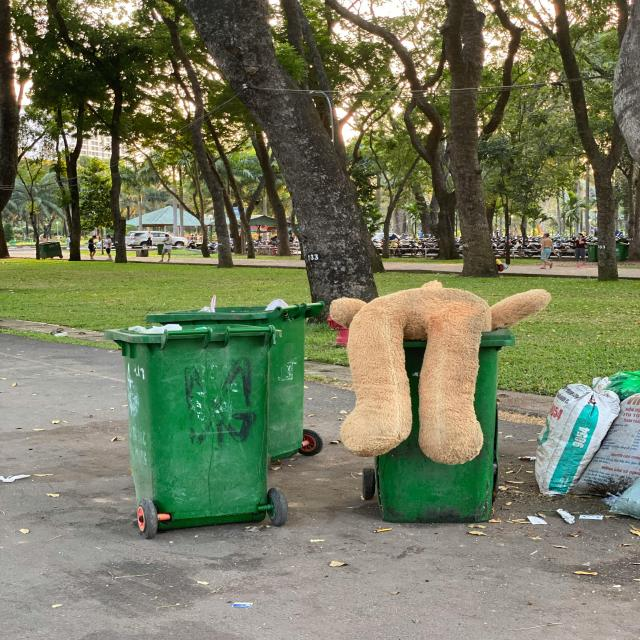trash: (550, 385, 624, 487)
